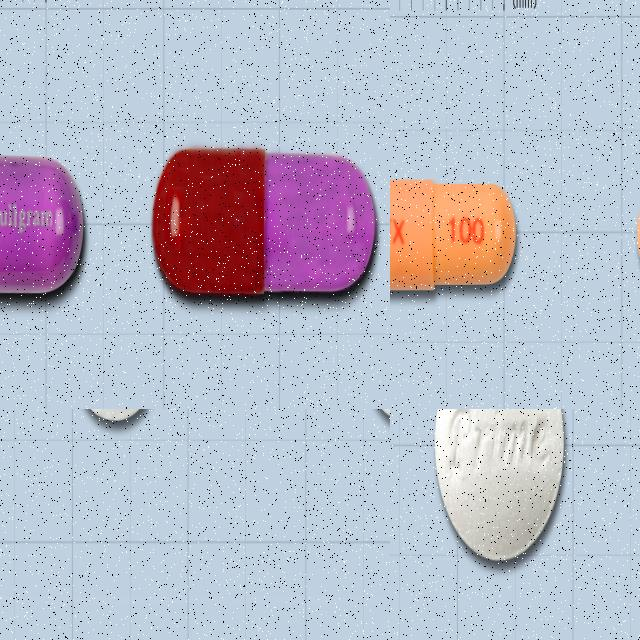Fullgram Cap: (150, 146, 378, 296), (0, 148, 84, 297)
Kukje Cefixime Cap: (390, 177, 516, 291)
Loxin: (435, 409, 565, 563)
